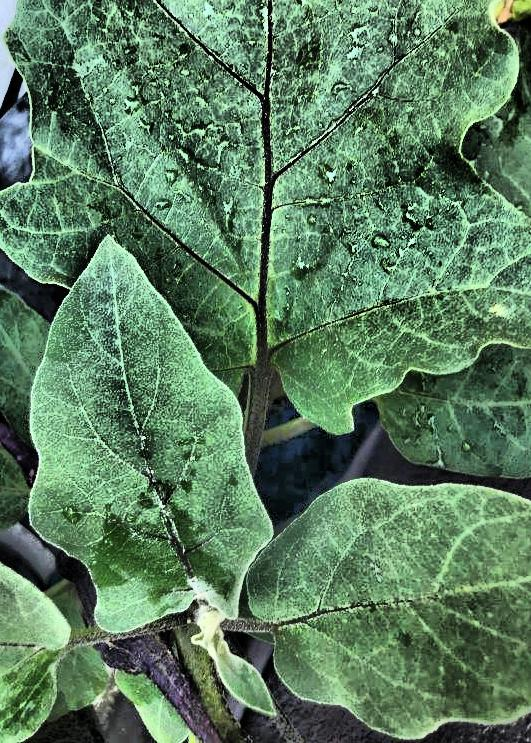HEALTHY: (78, 0, 531, 487)
